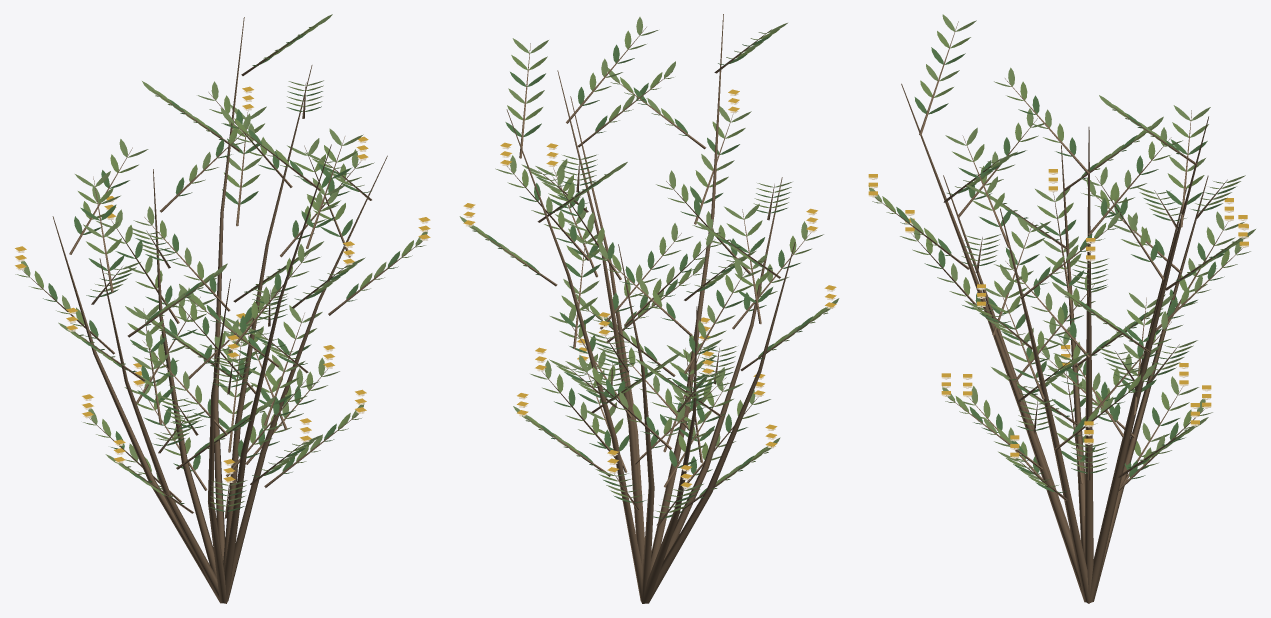
Rendered from BruyereFine_0_High.fbx.
3 views of the same model, side by side, from view 1: azimuth 30°, elevation 25°; view 2: azimuth 150°, elevation 25°; view 3: azimuth 270°, elevation 25° (orthographic).
Parts seen in each view (by area): view 1: BruyereFine_0_High; view 2: BruyereFine_0_High; view 3: BruyereFine_0_High.
Boxes of the visible parts, x1,y1,x2,y2 form: BruyereFine_0_High: [15, 14, 430, 603]; BruyereFine_0_High: [459, 14, 839, 603]; BruyereFine_0_High: [868, 14, 1255, 603].
Size of the model in its own units: 100 by 158 by 101.
